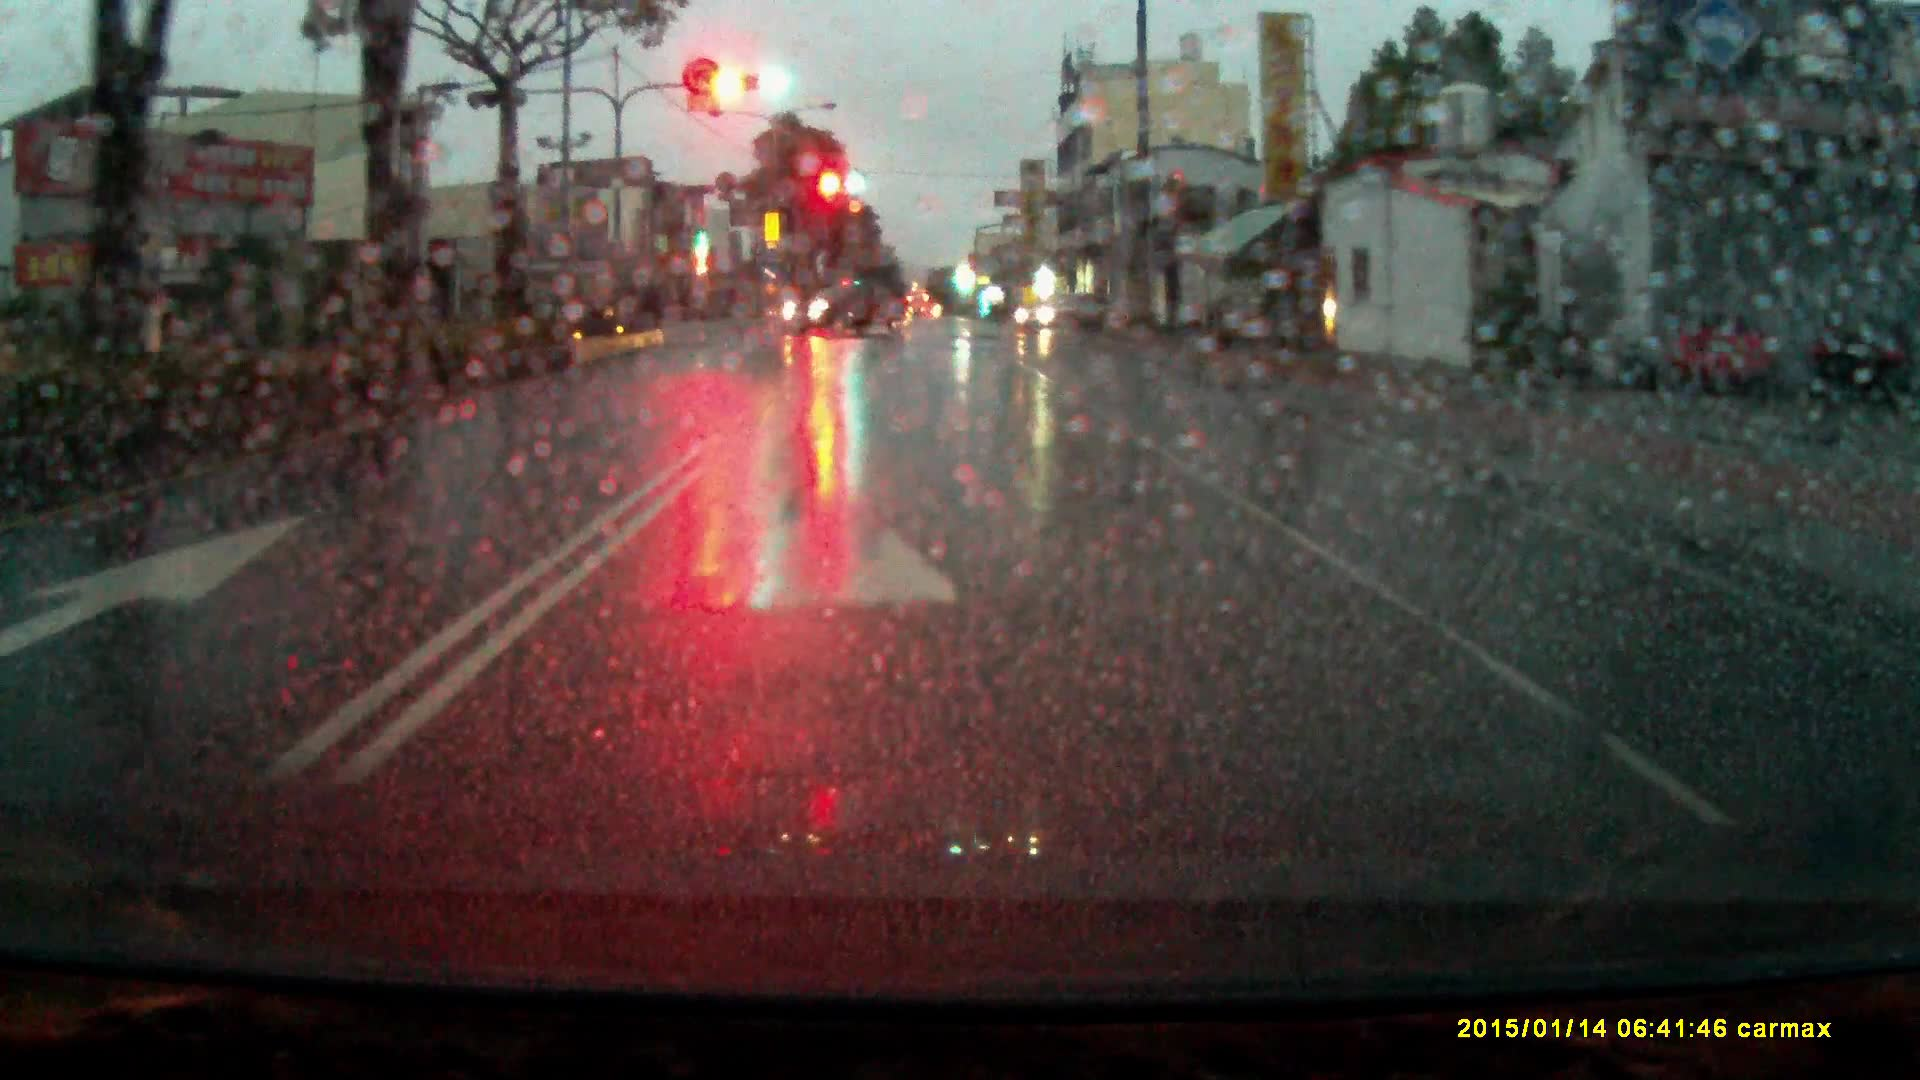vehicle: (779, 276, 918, 340), (1018, 291, 1127, 342)
